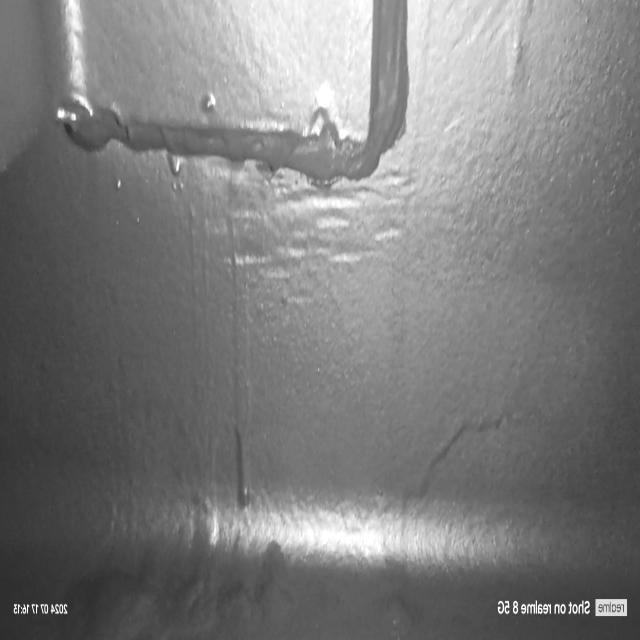paint drips: (393, 402, 507, 509), (225, 163, 258, 514), (192, 74, 235, 124), (157, 141, 189, 197)
